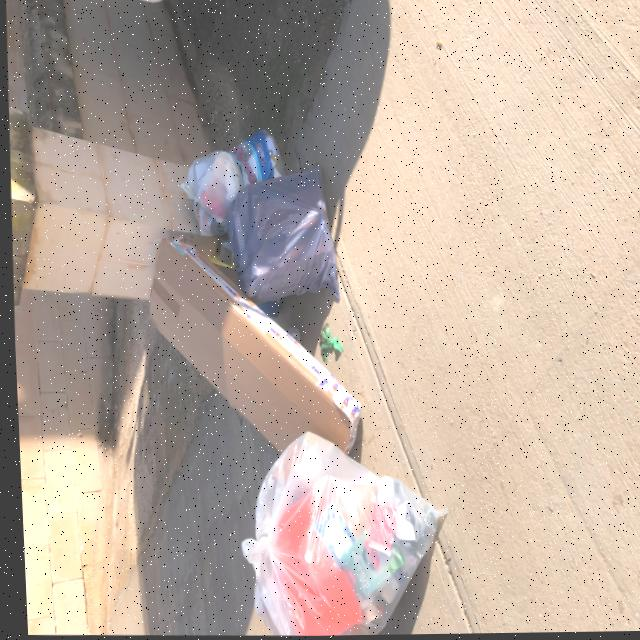Mixed Waste -Black Bag-: (199, 159, 343, 319)
Other: (135, 230, 367, 461), (227, 123, 286, 186), (313, 323, 343, 363), (205, 237, 230, 267), (281, 327, 299, 351)
Recycled Waste -Grey or Green Bag-: (231, 429, 454, 638), (179, 149, 240, 238)
